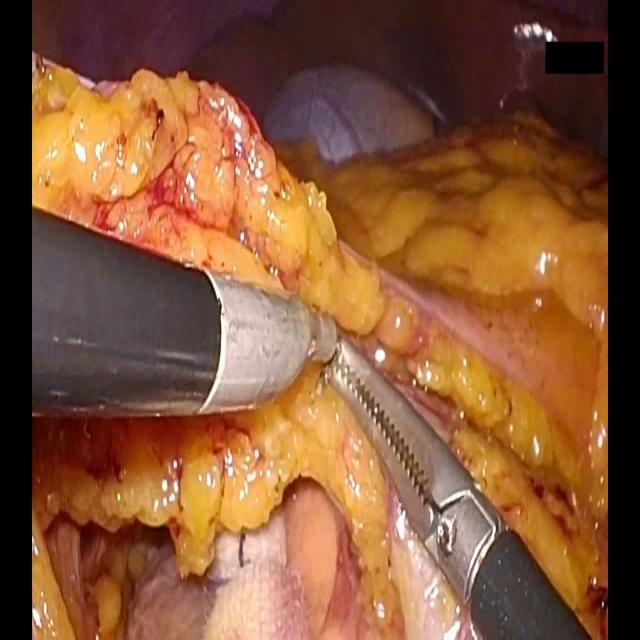surgical-area: (32, 0, 608, 639), (32, 360, 485, 639)
surgical-tool: (325, 333, 594, 639), (32, 204, 337, 416)
